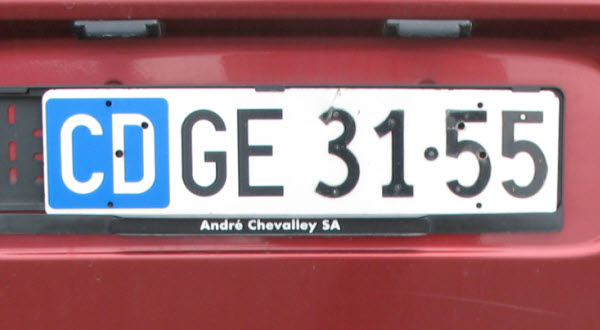license_plate: (42, 88, 558, 216)
